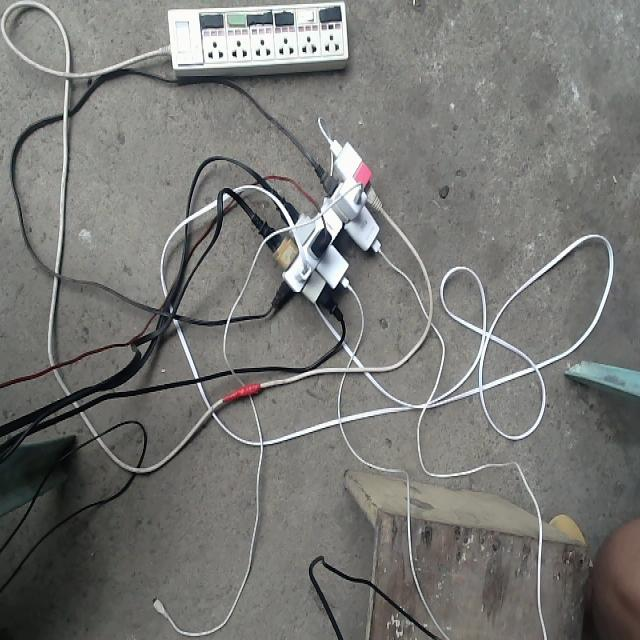-: (251, 132, 389, 325)
